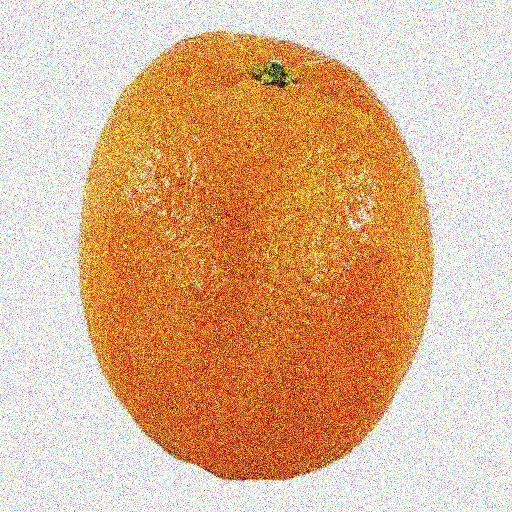fruit: (388, 124, 476, 458)
